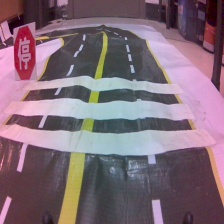stop: (12, 21, 39, 84)
